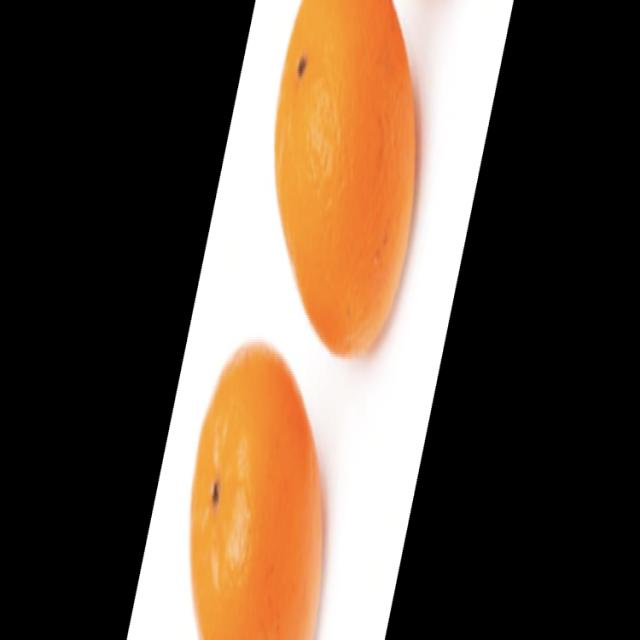fresh: (186, 2, 431, 639)
